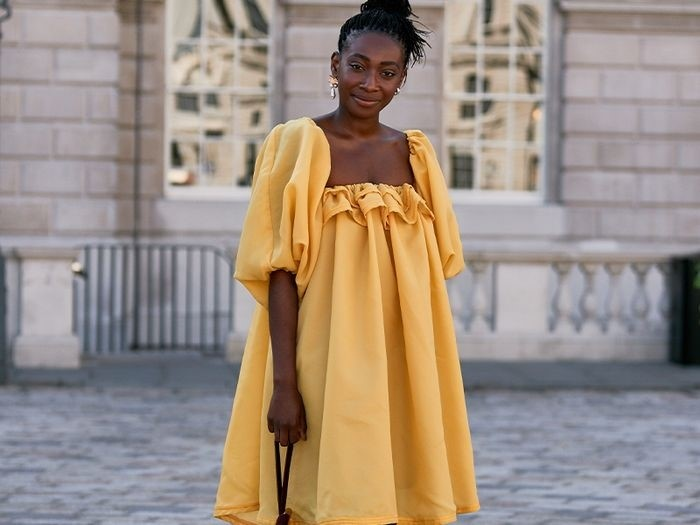face_no_mask: (329, 14, 414, 117)
